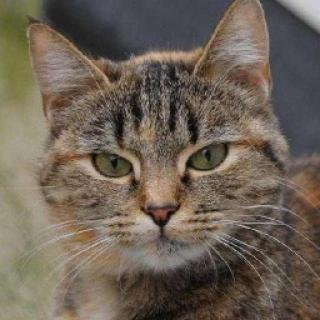cat: (24, 16, 276, 278)
nose: (136, 183, 182, 230)
